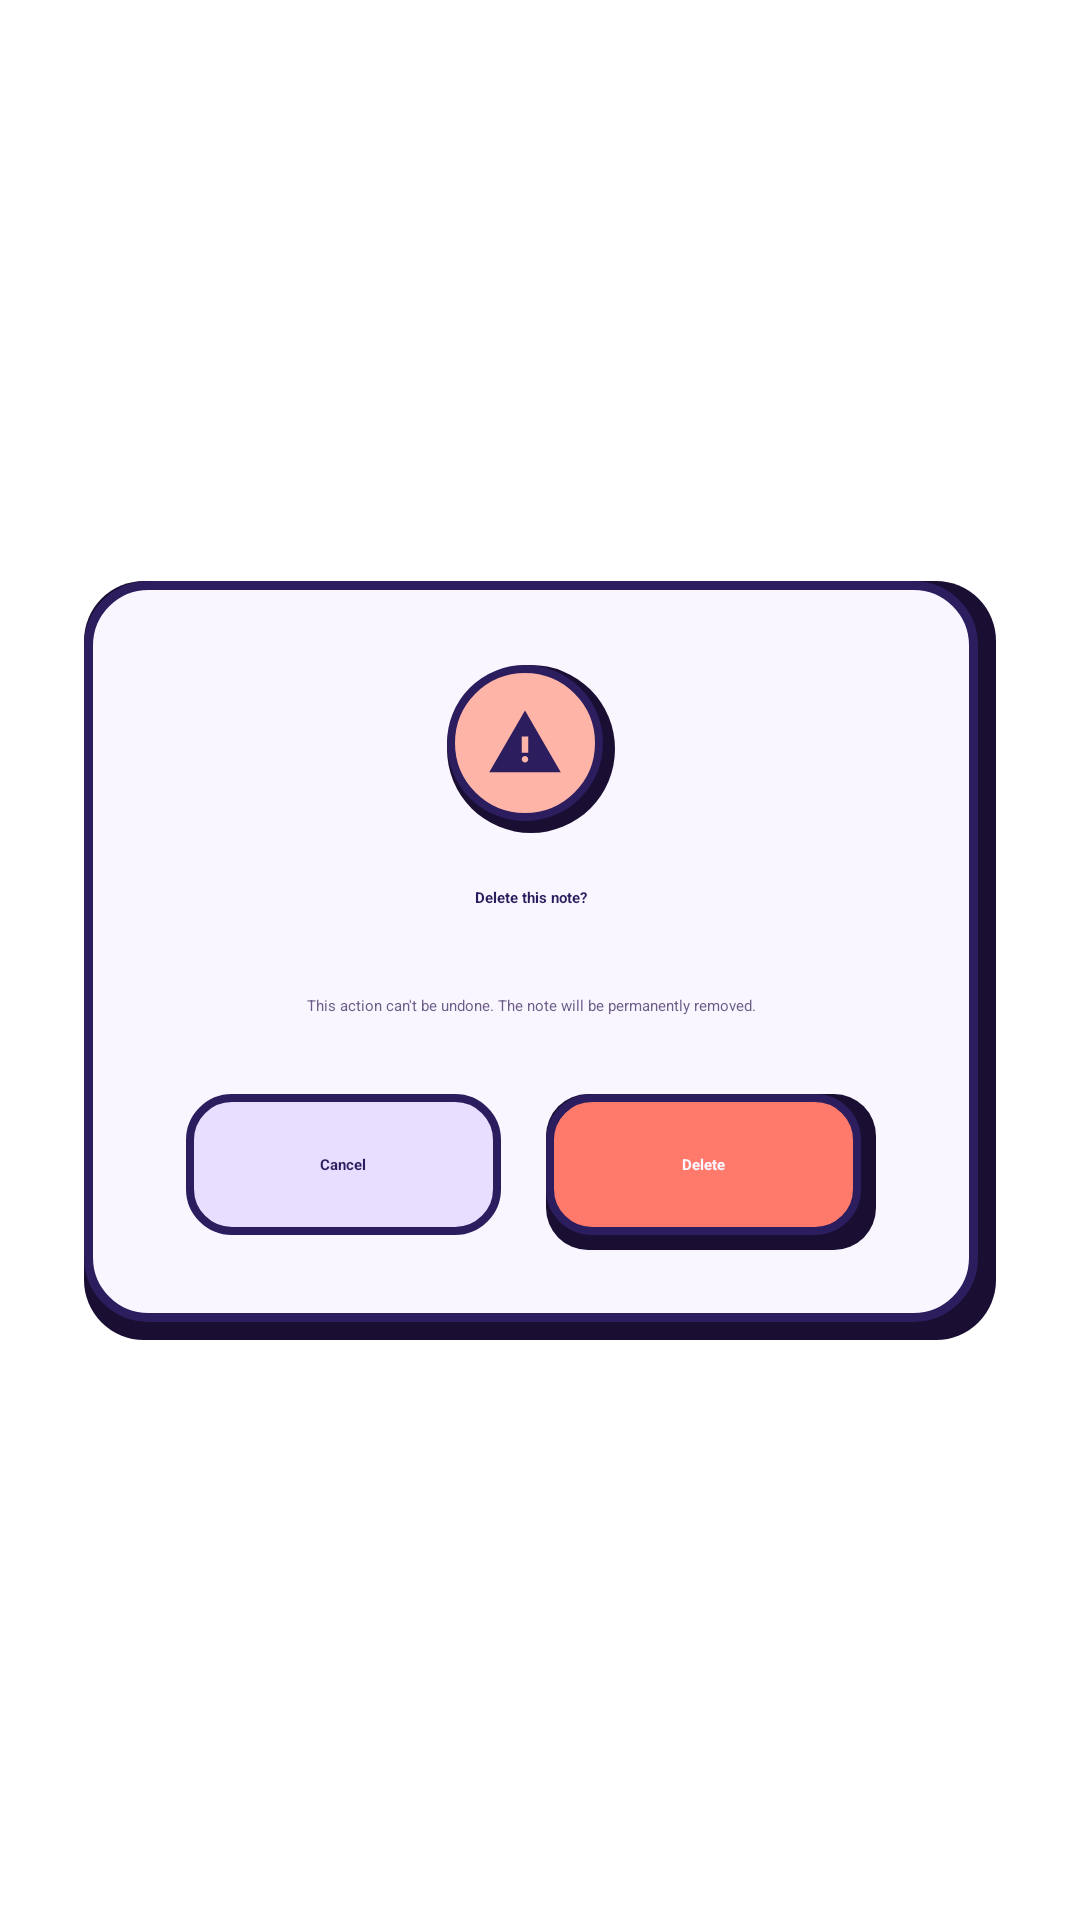

Icon click points for this 1080px×1920px phone screenshot, format [x,y]:
Warning: [525,742]
